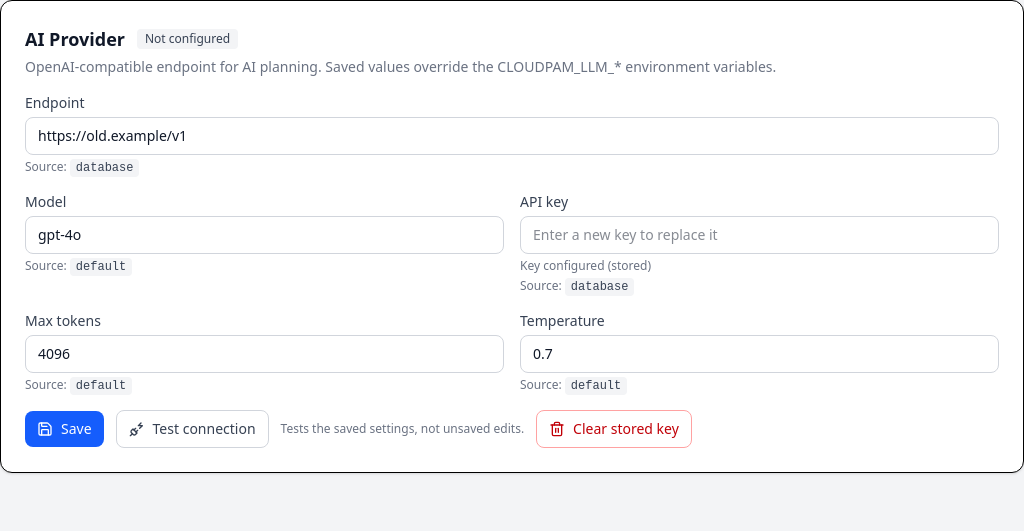
Scenario: AIProviderSettingsCard › after Clear stored key succeeds › hides the re-enter prompt
The width and height of the screenshot is (1024, 531).
Check: the field labelled "Model" is not empty, box [25,216,504,254]
Replace the text in the field labelled "Endpoint" with "https://new.example/v1" at (512, 136), box [25,117,999,155]
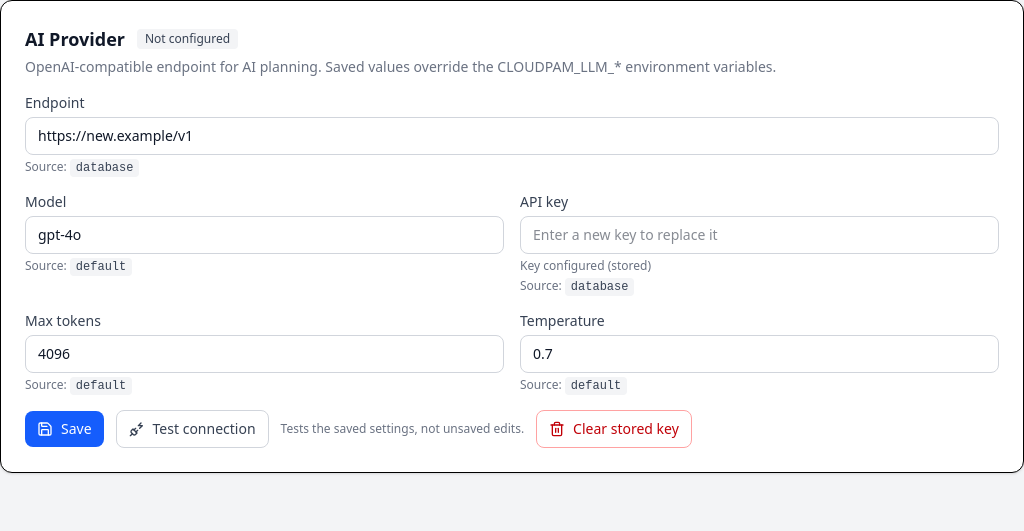
Click the button "Save".
click(64, 429)  # box [25,411,104,447]
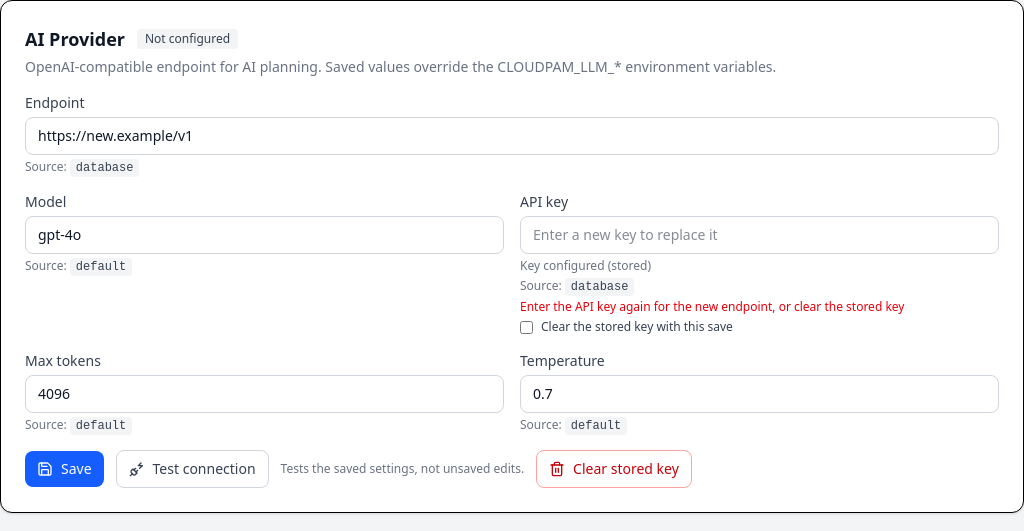
Check: the text "Enter the API key again for the new endpoint, or clear the stored key" is shown, box [520,298,904,315]
Click the button "Clear stored key".
click(614, 469)  # box [536,450,692,488]
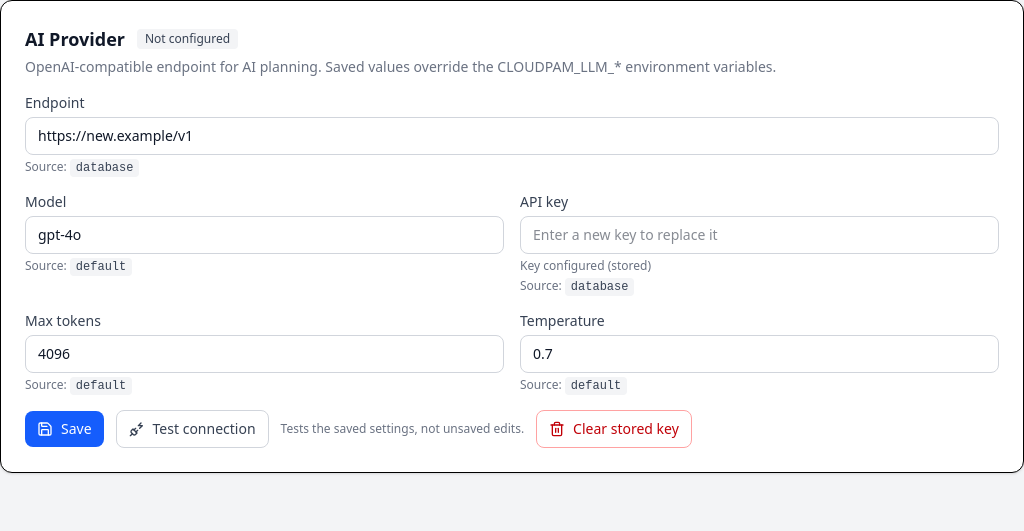
Check: the text "Enter the API key again for the new endpoint, or clear the stored key" is gone
Check: the label labelled "Clear the stored key with this save" is gone
